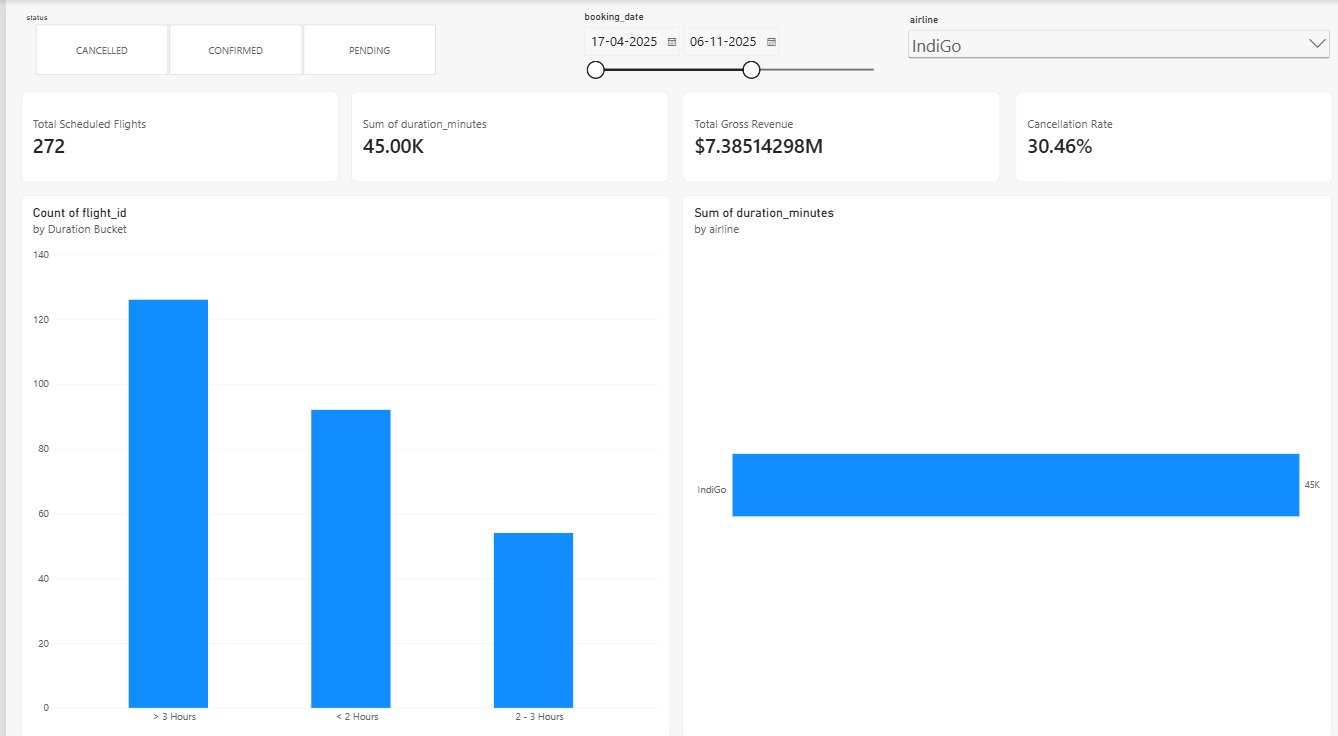

The page's visual inventory and layout, read from the dashboard file:
{"tool":"powerbi","page":{"name":"Duration Analysis","canvas":[1920,1080],"ordinal":0},"visuals":[{"type":"slicer","fields":{"Values":["dim_flights.airline"]},"box":[1286,20,614,90],"z":0},{"type":"slicer","fields":{"Values":["fact_bookings.status"]},"box":[20.4,20,613,90],"z":1000},{"type":"slicer","fields":{"Values":["fact_bookings.booking_date"]},"box":[819.9,15.9,440.6,227.1],"z":2000},{"type":"cardVisual","fields":{"Data":["_Measures.Total Scheduled Flights"]},"box":[20.4,130,455,130],"z":3000},{"type":"cardVisual","fields":{"Data":["Sum(dim_flights.duration_minutes)"]},"box":[495,130,455,130],"z":4000},{"type":"cardVisual","fields":{"Data":["_Measures.Total Gross Revenue"]},"box":[970,130,455,130],"z":5000},{"type":"cardVisual","fields":{"Data":["_Measures.Cancellation Rate"]},"box":[1445,130,455,130],"z":6000},{"type":"clusteredBarChart","fields":{"Category":["dim_flights.airline"],"Y":["Sum(dim_flights.duration_minutes)"]},"box":[970,280,930,780],"z":7000},{"type":"clusteredColumnChart","fields":{"Category":["dim_flights.Duration Bucket"],"Y":["Count(dim_flights.flight_id)"]},"box":[20.4,280,930,780],"z":8000}]}

Visuals, with their boxes in screenshot pixels (x1, y1, x2, y2), scaled from the page's 1920x1080 canvas onto the 1338x736 screenshot:
slicer - dim_flights.airline: left=896, top=14, right=1324, bottom=75
slicer - fact_bookings.status: left=14, top=14, right=441, bottom=75
slicer - fact_bookings.booking_date: left=571, top=11, right=878, bottom=166
cardVisual - _Measures.Total Scheduled Flights: left=14, top=89, right=331, bottom=177
cardVisual - Sum(dim_flights.duration_minutes): left=345, top=89, right=662, bottom=177
cardVisual - _Measures.Total Gross Revenue: left=676, top=89, right=993, bottom=177
cardVisual - _Measures.Cancellation Rate: left=1007, top=89, right=1324, bottom=177
clusteredBarChart - dim_flights.airline x Sum(dim_flights.duration_minutes): left=676, top=191, right=1324, bottom=722
clusteredColumnChart - dim_flights.Duration Bucket x Count(dim_flights.flight_id): left=14, top=191, right=662, bottom=722
